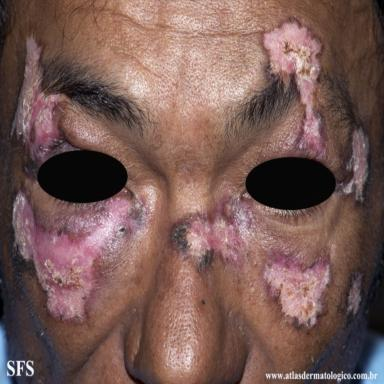Lupus-Erythematosus-Chronicus-Discoides: (11, 185, 156, 324), (12, 37, 79, 184), (263, 22, 325, 156), (170, 196, 253, 271), (263, 253, 333, 331), (336, 127, 370, 202), (346, 273, 362, 316), (35, 117, 38, 118)
